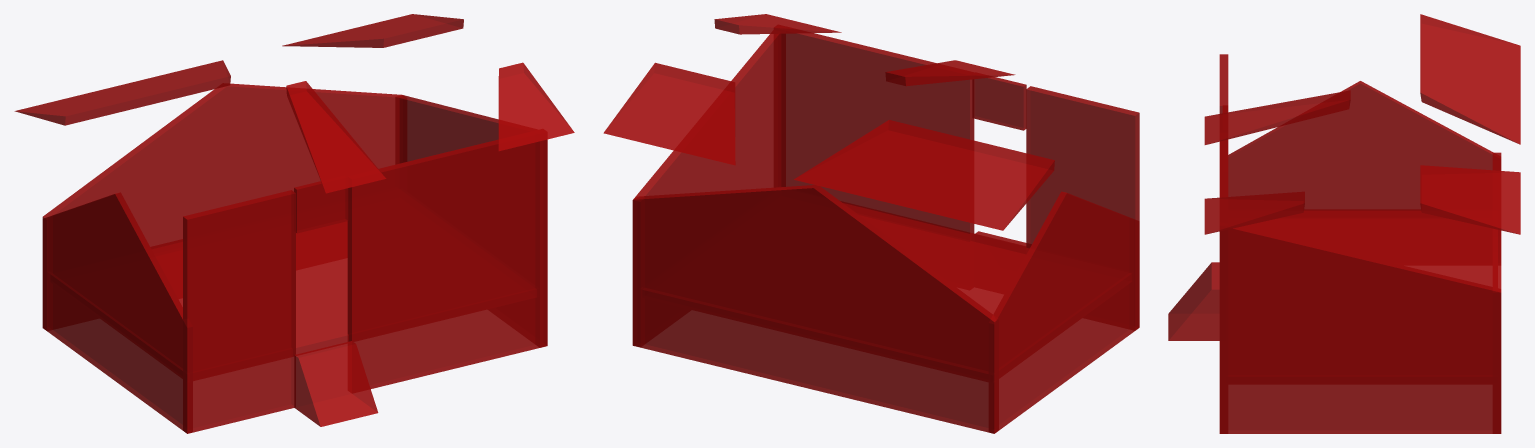
The model's file is SM_Bld_Plywood_Shed_Destroyed_01_Collision.fbx.
3 renders of one model, left to right at view 1: azimuth 30°, elevation 25°; view 2: azimuth 150°, elevation 25°; view 3: azimuth 270°, elevation 25°, orthographic. The views are drawn at different scales.
Parts seen in each view (by area): view 1: SM_Bld_Plywood_Shed_Destroyed_01_Collision; view 2: SM_Bld_Plywood_Shed_Destroyed_01_Collision; view 3: SM_Bld_Plywood_Shed_Destroyed_01_Collision.
Boxes of the visible parts, x1=… form: SM_Bld_Plywood_Shed_Destroyed_01_Collision: x1=14, y1=14, x2=574, y2=433; SM_Bld_Plywood_Shed_Destroyed_01_Collision: x1=603, y1=14, x2=1139, y2=433; SM_Bld_Plywood_Shed_Destroyed_01_Collision: x1=1168, y1=14, x2=1520, y2=433.
Size of the model in its own units: 797 by 494 by 627.
